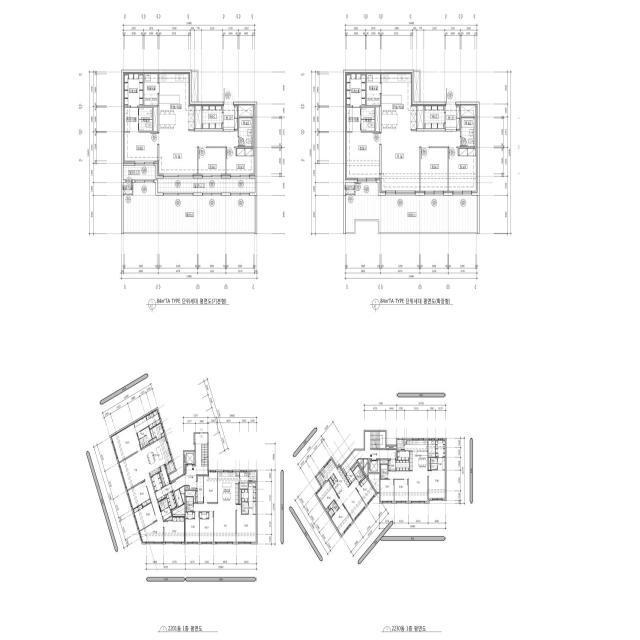space_balconi: (123, 166, 255, 193), (316, 472, 326, 486), (166, 461, 175, 474), (397, 439, 404, 450), (249, 471, 256, 481)
space_bedroom: (345, 133, 379, 180), (420, 148, 448, 193), (449, 148, 477, 193), (111, 423, 141, 462), (123, 132, 157, 163), (226, 148, 255, 176), (198, 148, 225, 176), (237, 504, 256, 543), (331, 504, 353, 535), (127, 481, 151, 509), (316, 481, 339, 509), (133, 503, 156, 531), (356, 477, 376, 505), (164, 517, 185, 543), (429, 470, 445, 499), (200, 512, 213, 543), (186, 512, 199, 543), (204, 471, 217, 502), (380, 480, 394, 502), (395, 480, 408, 502), (200, 512, 209, 518), (186, 512, 194, 518)
space_dressroom: (345, 72, 365, 106), (123, 73, 143, 106), (146, 409, 161, 429), (436, 439, 445, 457), (249, 483, 256, 501), (242, 490, 248, 501)
space_elevator: (184, 452, 195, 465), (369, 460, 379, 472)
space_elevator_hall: (171, 434, 207, 491), (341, 449, 396, 474)
space_front: (445, 104, 460, 130), (223, 104, 238, 129), (155, 483, 172, 501), (151, 473, 163, 491), (166, 491, 177, 510), (196, 476, 203, 503), (345, 470, 356, 484), (388, 460, 396, 471)
space_kitchen: (159, 72, 194, 131), (381, 73, 416, 131), (142, 436, 172, 476), (321, 459, 350, 497), (405, 439, 428, 471), (218, 471, 239, 504)
space_living_room: (380, 131, 460, 193), (119, 450, 163, 543), (158, 131, 238, 176), (194, 504, 236, 543), (336, 478, 366, 521), (388, 471, 428, 502)
space_multipurpose_space: (366, 72, 380, 105), (144, 73, 158, 106)
space_other: (424, 104, 445, 128), (202, 105, 222, 128), (159, 465, 170, 487), (150, 423, 164, 440), (369, 474, 379, 492), (174, 489, 183, 507), (240, 471, 249, 489), (192, 71, 197, 102), (414, 71, 419, 102), (239, 105, 253, 116), (461, 105, 475, 116), (417, 105, 423, 128), (195, 105, 201, 128), (173, 504, 185, 515), (428, 440, 435, 457), (396, 461, 409, 470), (397, 451, 409, 460), (186, 490, 195, 502), (153, 107, 157, 131), (363, 459, 368, 477), (180, 486, 185, 503), (376, 107, 379, 131), (351, 462, 358, 471), (358, 459, 363, 469), (149, 437, 157, 443), (329, 478, 334, 485), (380, 460, 388, 464), (386, 446, 396, 449), (165, 516, 172, 520), (184, 466, 186, 474), (161, 433, 165, 437), (236, 471, 239, 476), (240, 490, 241, 504), (429, 458, 430, 470), (326, 508, 329, 512), (185, 486, 189, 489), (405, 440, 406, 444)
space_outdoor_room: (123, 183, 132, 194), (345, 183, 354, 194)
space_staircase: (365, 432, 385, 450), (201, 444, 207, 466)
space_toilet: (123, 107, 152, 131), (345, 107, 374, 131), (239, 118, 253, 146), (461, 118, 475, 146), (137, 427, 152, 448), (134, 416, 148, 433), (328, 500, 339, 517), (353, 466, 364, 483), (431, 458, 445, 470), (161, 507, 172, 520), (381, 465, 388, 479), (186, 497, 193, 511), (249, 502, 256, 514), (163, 498, 169, 509), (159, 500, 165, 511), (242, 508, 248, 514), (242, 502, 248, 508)
